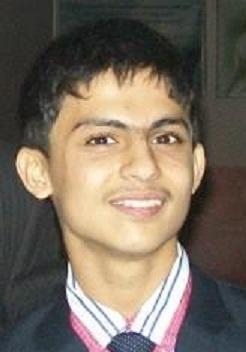No Mask: (17, 11, 210, 260)
